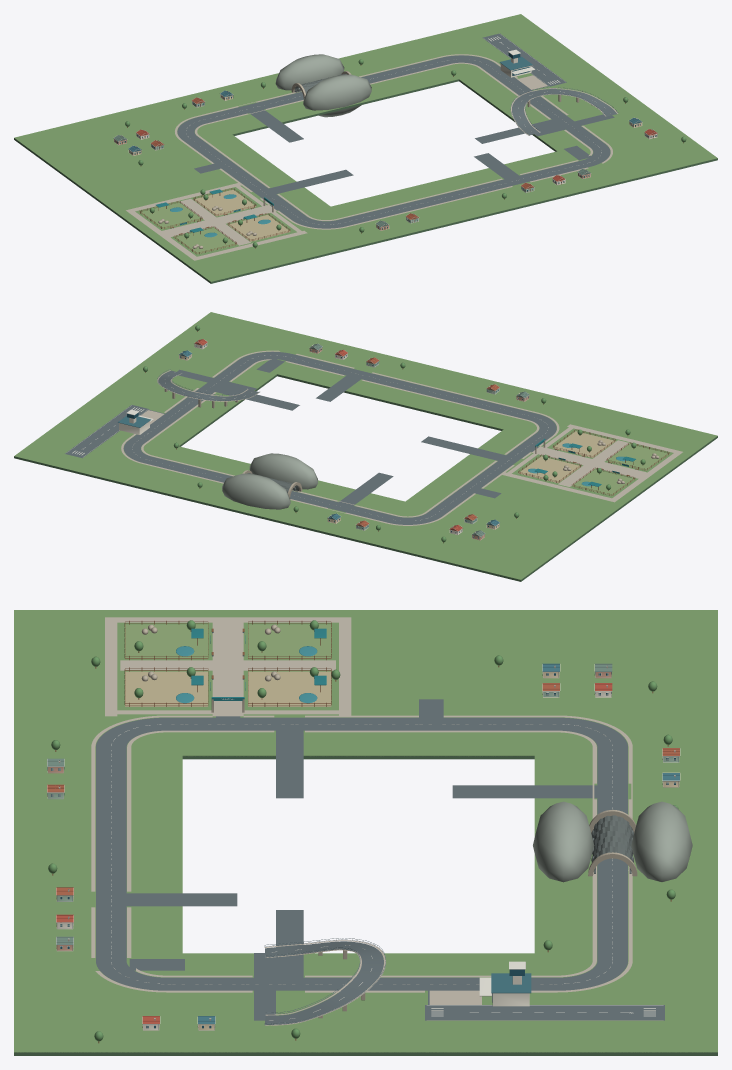
The model's file is city-world.glb.
3 views of the same model, one above another, from view 1: azimuth 30°, elevation 25°; view 2: azimuth 150°, elevation 25°; view 3: azimuth 270°, elevation 25° (orthographic). The views are drawn at different scales.
Parts seen in each view (by area): view 1: CityPaving, Zoo, TunnelMountain, CityGround, Overpass, Airport; view 2: CityPaving, Zoo, TunnelMountain, CityGround, Overpass, Airport; view 3: CityPaving, Zoo, TunnelMountain, CityGround, Overpass, Airport, CaveInterior, TunnelRoof.
Boxes of the visible parts, x1,y1,x2,y2 form: CityPaving: (14, 14, 717, 283); Zoo: (126, 183, 307, 260); TunnelMountain: (275, 54, 371, 117); CityGround: (113, 59, 686, 248); Overpass: (510, 87, 618, 135); Airport: (499, 49, 534, 77); CityPaving: (14, 312, 717, 581); Zoo: (502, 424, 682, 502); TunnelMountain: (222, 453, 317, 509); CityGround: (143, 325, 630, 543); Overpass: (157, 369, 259, 408); Airport: (118, 409, 153, 434); CityPaving: (14, 610, 717, 1055); Zoo: (105, 617, 351, 716); TunnelMountain: (533, 801, 692, 882); CityGround: (47, 655, 680, 1043); Overpass: (264, 938, 385, 1025); Airport: (479, 961, 531, 1006); CaveInterior: (612, 815, 632, 861); TunnelRoof: (592, 815, 612, 860).
Size of the model in its own units: 340 by 24 by 229.
